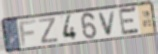4: (62, 13, 78, 43)
6: (80, 11, 98, 41)
E: (118, 6, 141, 37)
F: (18, 19, 38, 48)
V: (98, 9, 118, 37)
Z: (38, 16, 60, 45)
